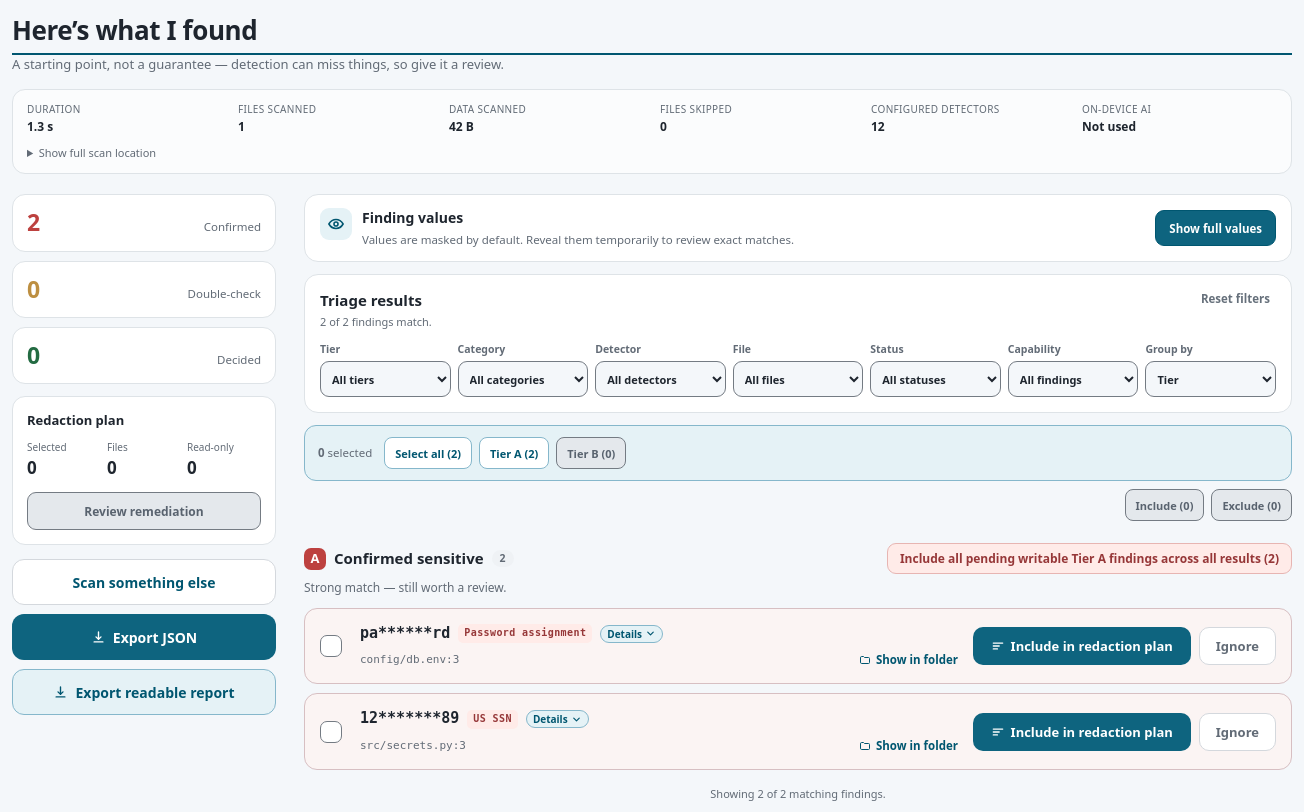
ResultsScreen › filters by category and can regroup the same results by file
This screenshot has width=1304, height=812.
Select "Credentials" in the dropdown labelled "Category" at (523, 379), box [458,361,588,397]
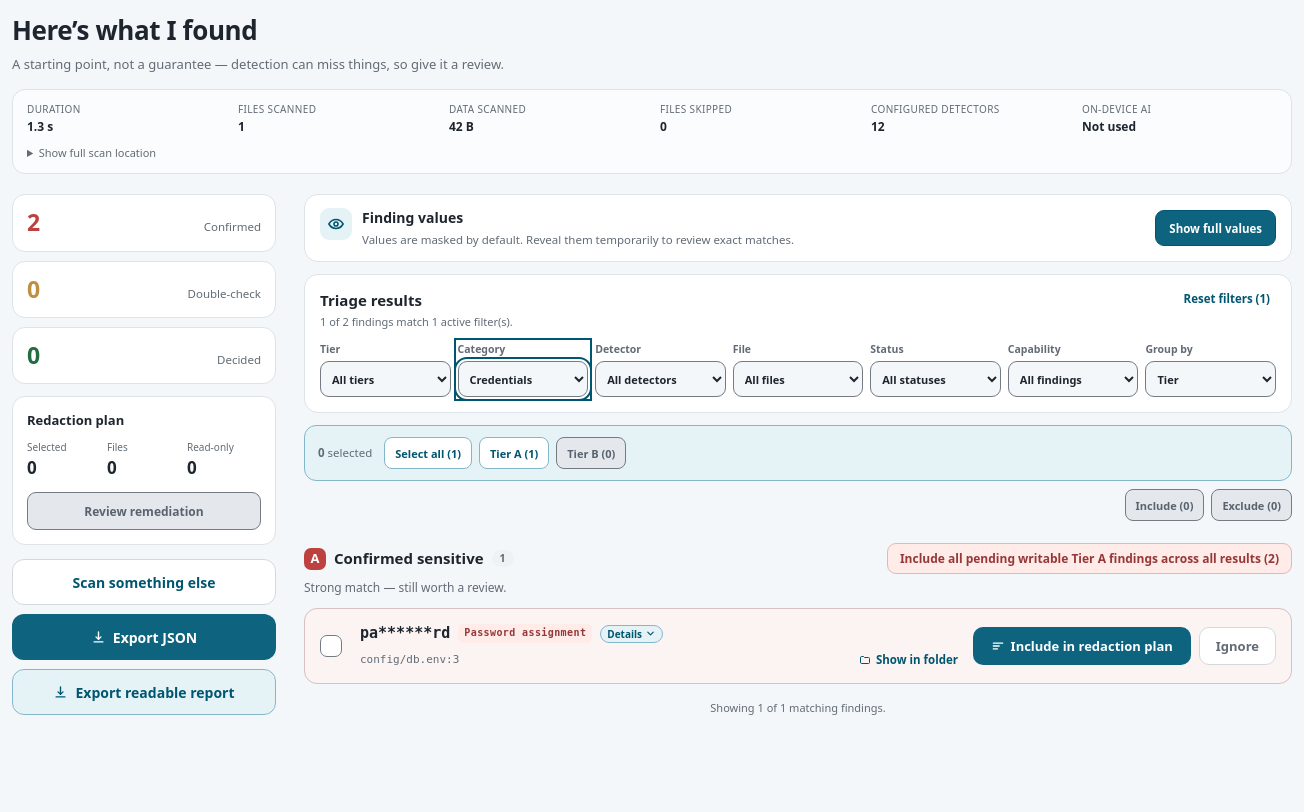
Select "File" in the dropdown labelled "Group by" at (1211, 379), box [1145,361,1276,397]
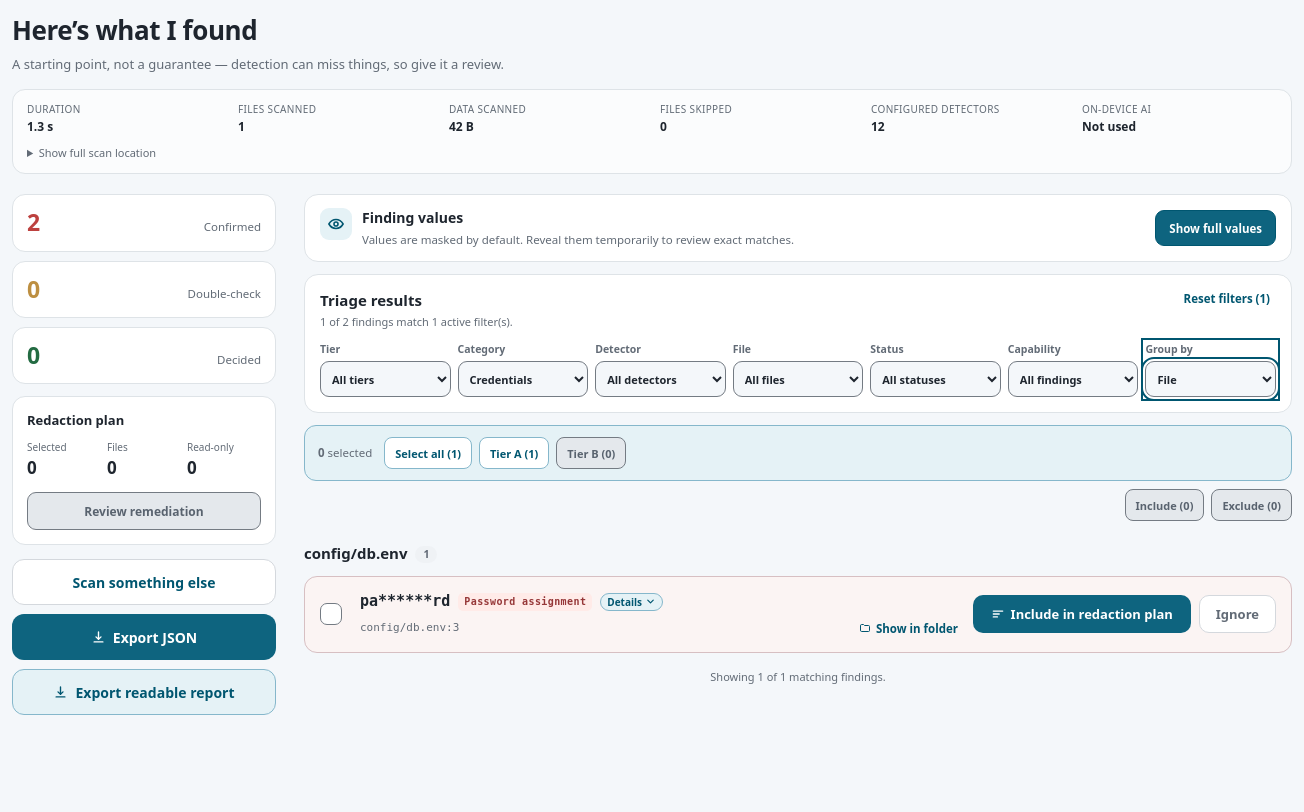
Expected: the heading "12*******89" is not shown
Expected: the heading "config/db.env 1" is shown, [304,543,438,565]
